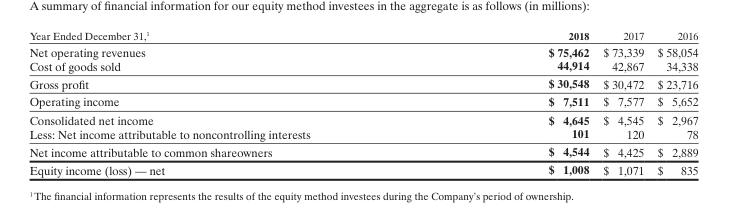table: (28, 28, 697, 176)
table column: (28, 28, 428, 176), (428, 28, 595, 176), (595, 28, 650, 176), (650, 28, 697, 176)
table column header: (28, 28, 697, 43)
table row: (28, 74, 697, 92), (28, 92, 697, 110), (28, 142, 697, 160), (28, 58, 697, 74), (28, 110, 697, 126), (28, 126, 697, 142), (28, 160, 697, 176), (28, 28, 697, 43), (28, 43, 697, 58)
